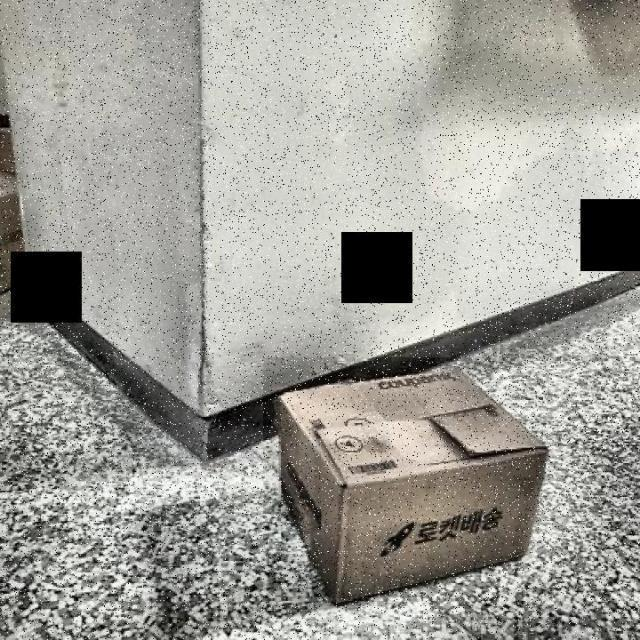box: (263, 358, 546, 610)
